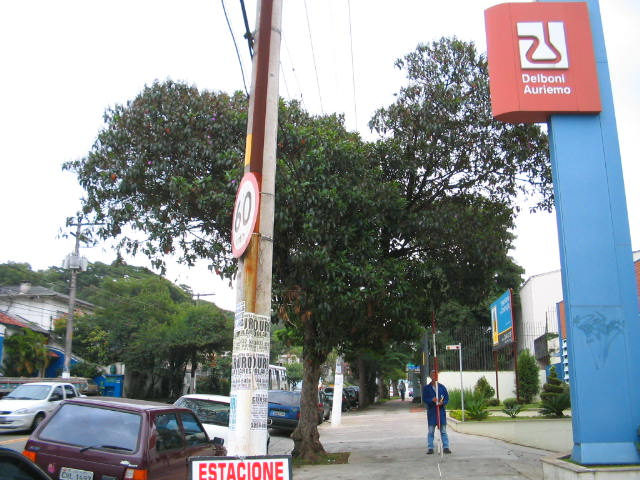crown: (61, 75, 524, 355)
stem: (285, 356, 338, 461)
stick: (428, 309, 445, 455)
tree: (58, 74, 524, 463)
